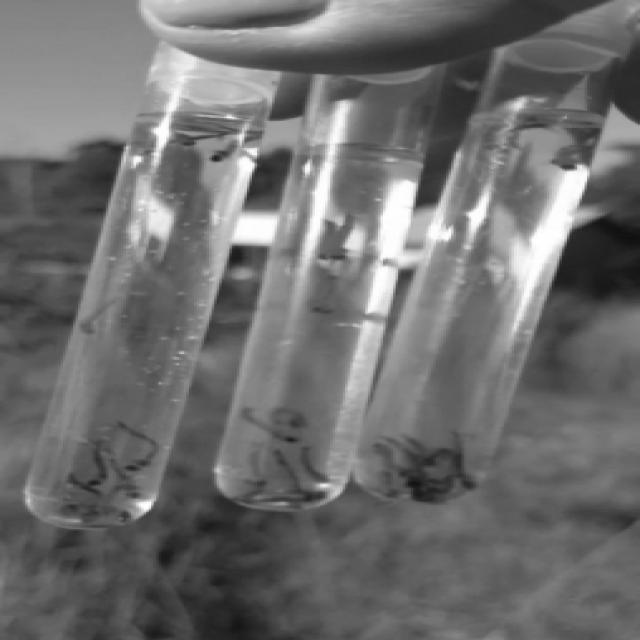larvas: (104, 443, 144, 498), (243, 406, 297, 442), (452, 430, 481, 490), (122, 424, 158, 469), (272, 450, 304, 491), (548, 136, 592, 164), (210, 135, 256, 161), (81, 302, 118, 334), (382, 436, 420, 465), (332, 216, 356, 259), (302, 444, 328, 482), (245, 446, 269, 485), (375, 441, 397, 479), (247, 492, 327, 502), (68, 474, 102, 496), (88, 440, 104, 486), (404, 434, 432, 460), (273, 407, 306, 428), (323, 273, 338, 313), (422, 446, 451, 466), (565, 150, 591, 170), (312, 275, 325, 312), (319, 220, 331, 258), (428, 474, 449, 492)
